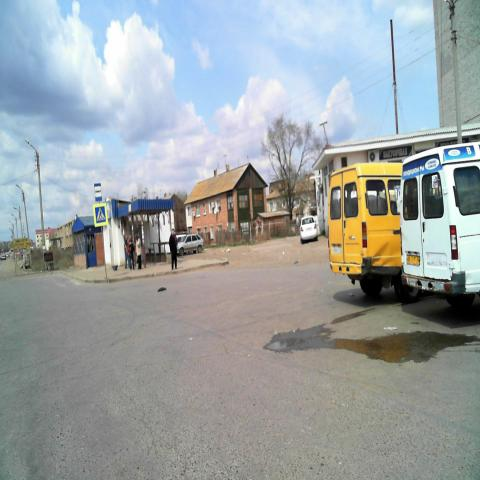5_16: (94, 183, 102, 202)
5_19_1: (94, 202, 108, 227)
